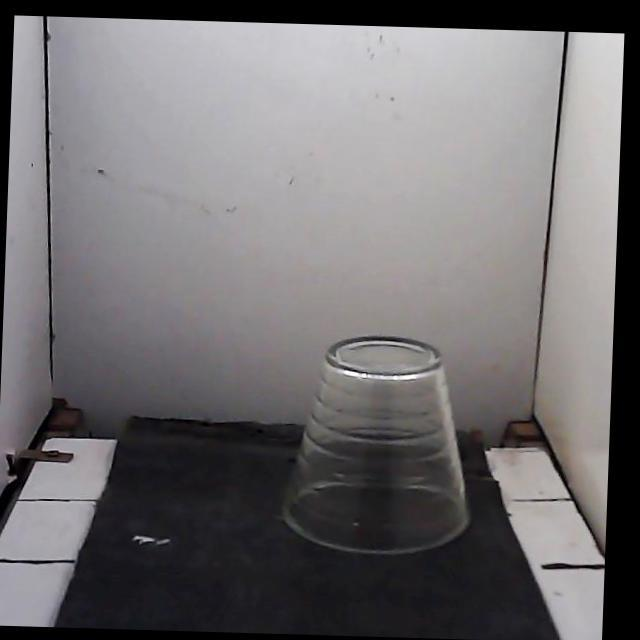vidro: (283, 336, 469, 554)
